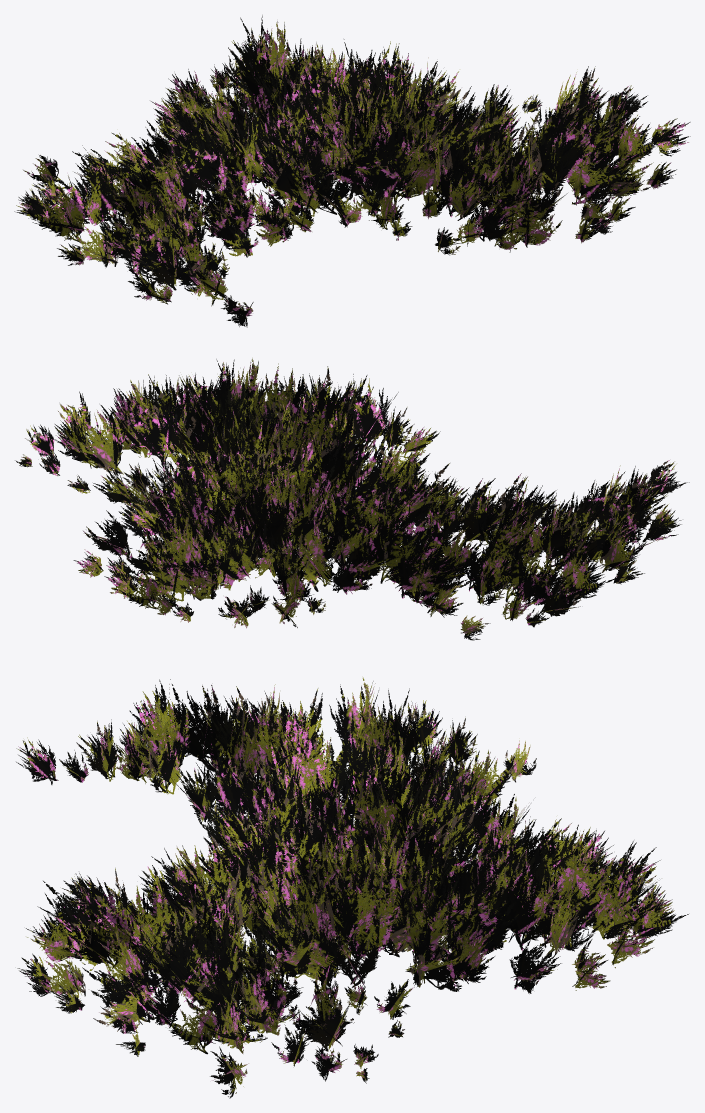
File: heather_clump_02_LOD0.fbx
The picture shows the model from 3 angles, top to bottom: view 1: azimuth 30°, elevation 25°; view 2: azimuth 150°, elevation 25°; view 3: azimuth 270°, elevation 25°; orthographic projection. The views are drawn at different scales.
Visible parts, largest first — view 1: heather_clump_02_LOD0; view 2: heather_clump_02_LOD0; view 3: heather_clump_02_LOD0.
Boxes of the visible parts, x1=… form: heather_clump_02_LOD0: x1=14, y1=15, x2=690, y2=327; heather_clump_02_LOD0: x1=15, y1=358, x2=689, y2=640; heather_clump_02_LOD0: x1=16, y1=677, x2=688, y2=1098.
Size of the model in its own units: 1396 by 222 by 1081.
